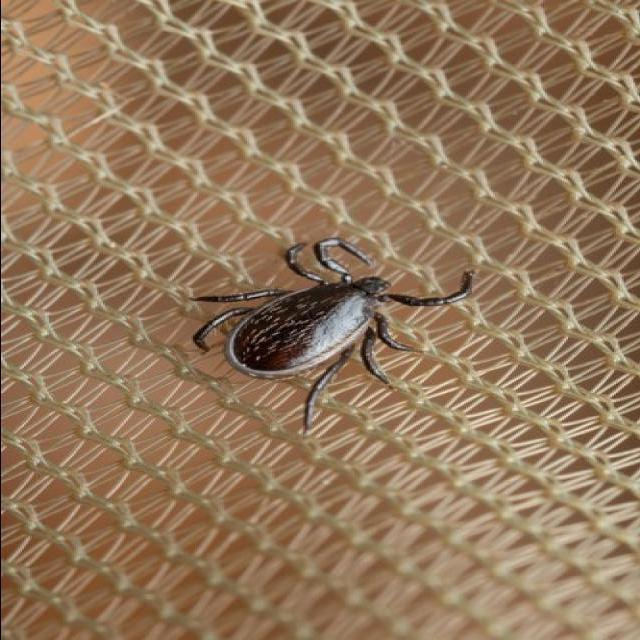Ixodes Ricinus-M: (188, 237, 471, 434)
